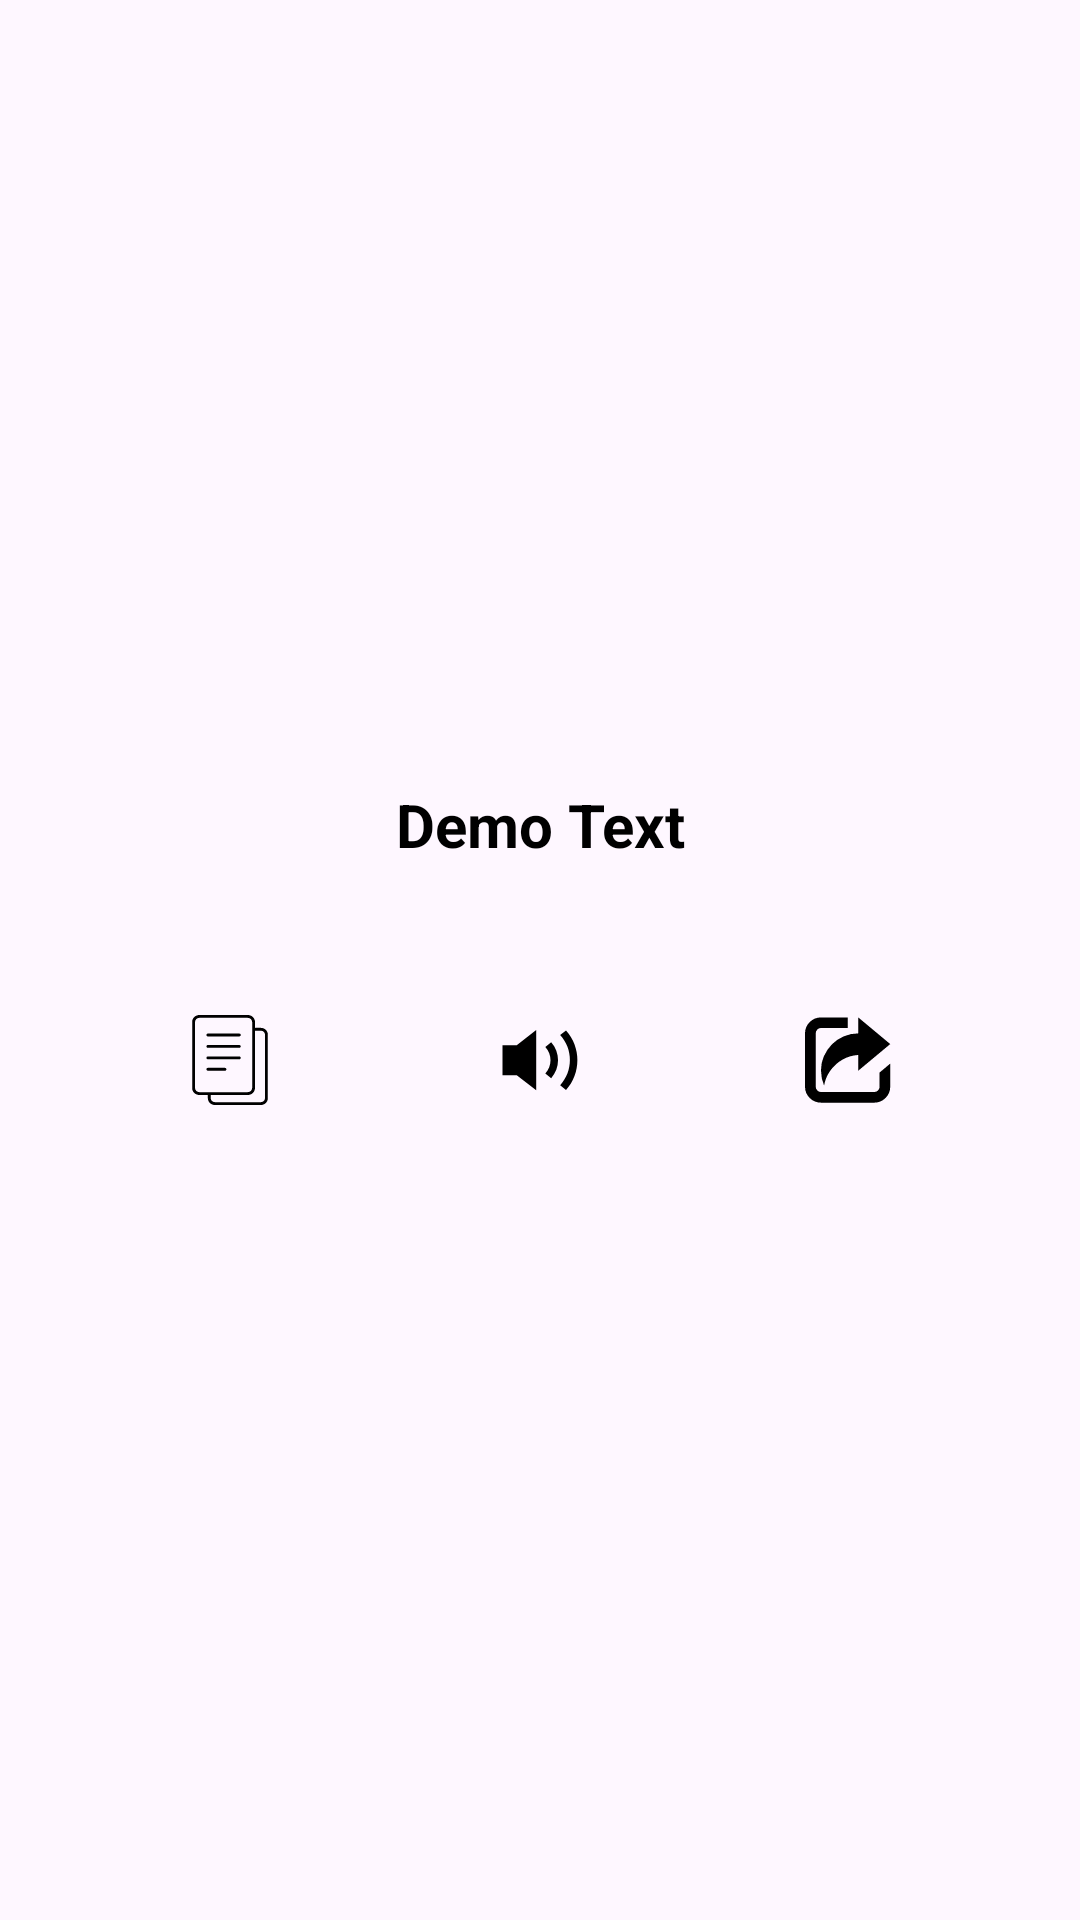

Screen size 1080px×1920px. Icon name, then its center in pixels as [x,y]:
share: [848,1060]
sound: [540,1060]
